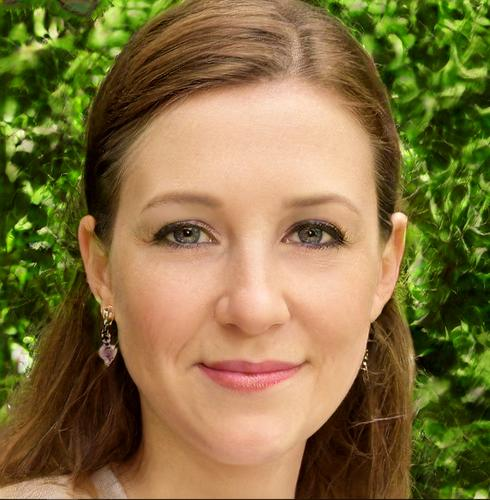no_mask: (112, 87, 384, 460)
